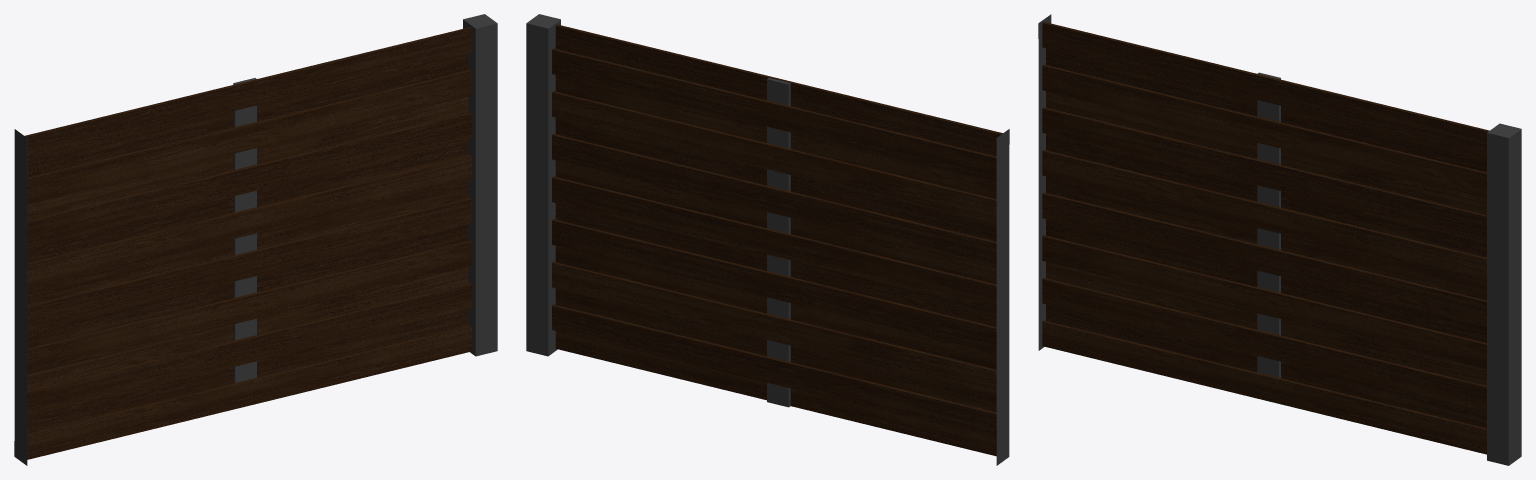
The model's file is fence.fbx.
The picture shows the model from 3 angles, left to right: view 1: azimuth 30°, elevation 25°; view 2: azimuth 150°, elevation 25°; view 3: azimuth 330°, elevation 25°; orthographic projection.
Parts seen in each view (by area): view 1: A23DOBJ_001; view 2: A23DOBJ_001; view 3: A23DOBJ_001.
Part boxes in pixels (x1,y1,x2,y2): A23DOBJ_001: (14,14,497,465); A23DOBJ_001: (526,14,1009,465); A23DOBJ_001: (1038,14,1521,465).
Bounding box in the file's own units: 762 × 508 × 35.56.
